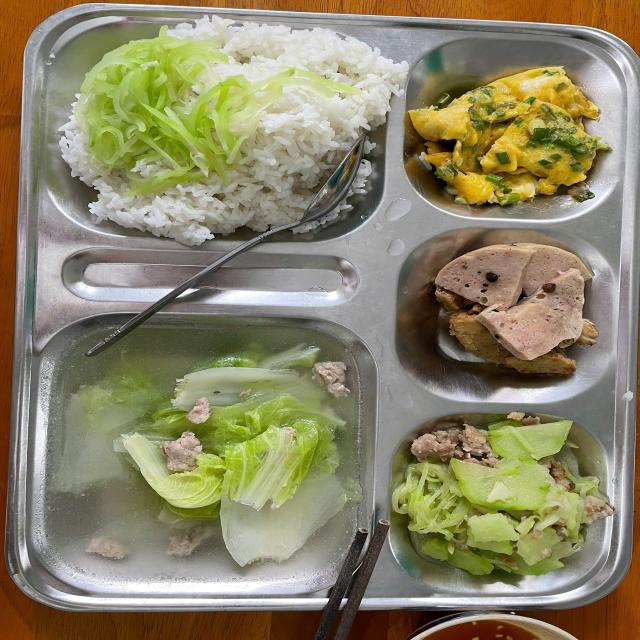canhcai: (42, 323, 364, 588)
giocha: (422, 239, 606, 384)
salad: (59, 24, 388, 240)
suluoc: (397, 419, 611, 578), (81, 36, 242, 191)
trungluoc: (412, 58, 606, 211)
